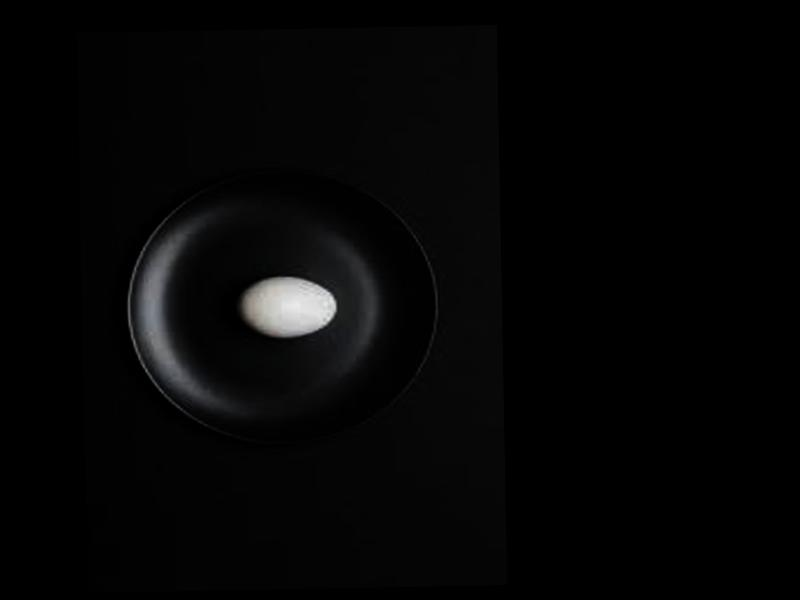Eggs: (237, 275, 336, 340)
